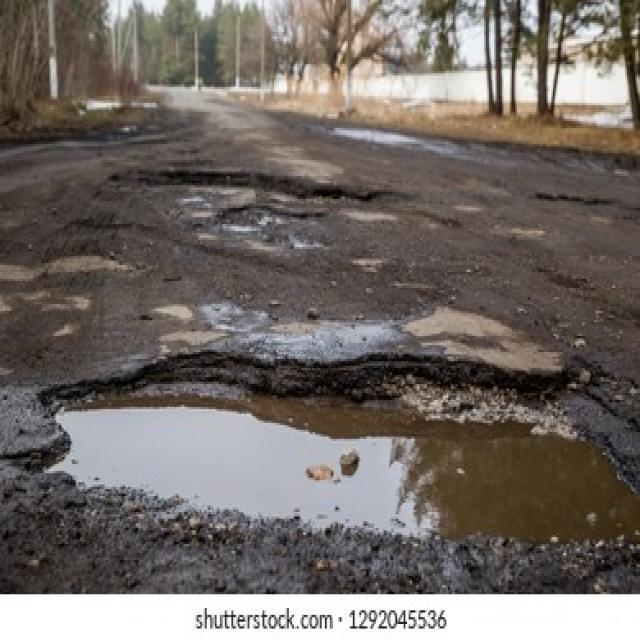Pothole: (26, 352, 640, 558), (115, 167, 386, 208), (218, 204, 324, 228)
